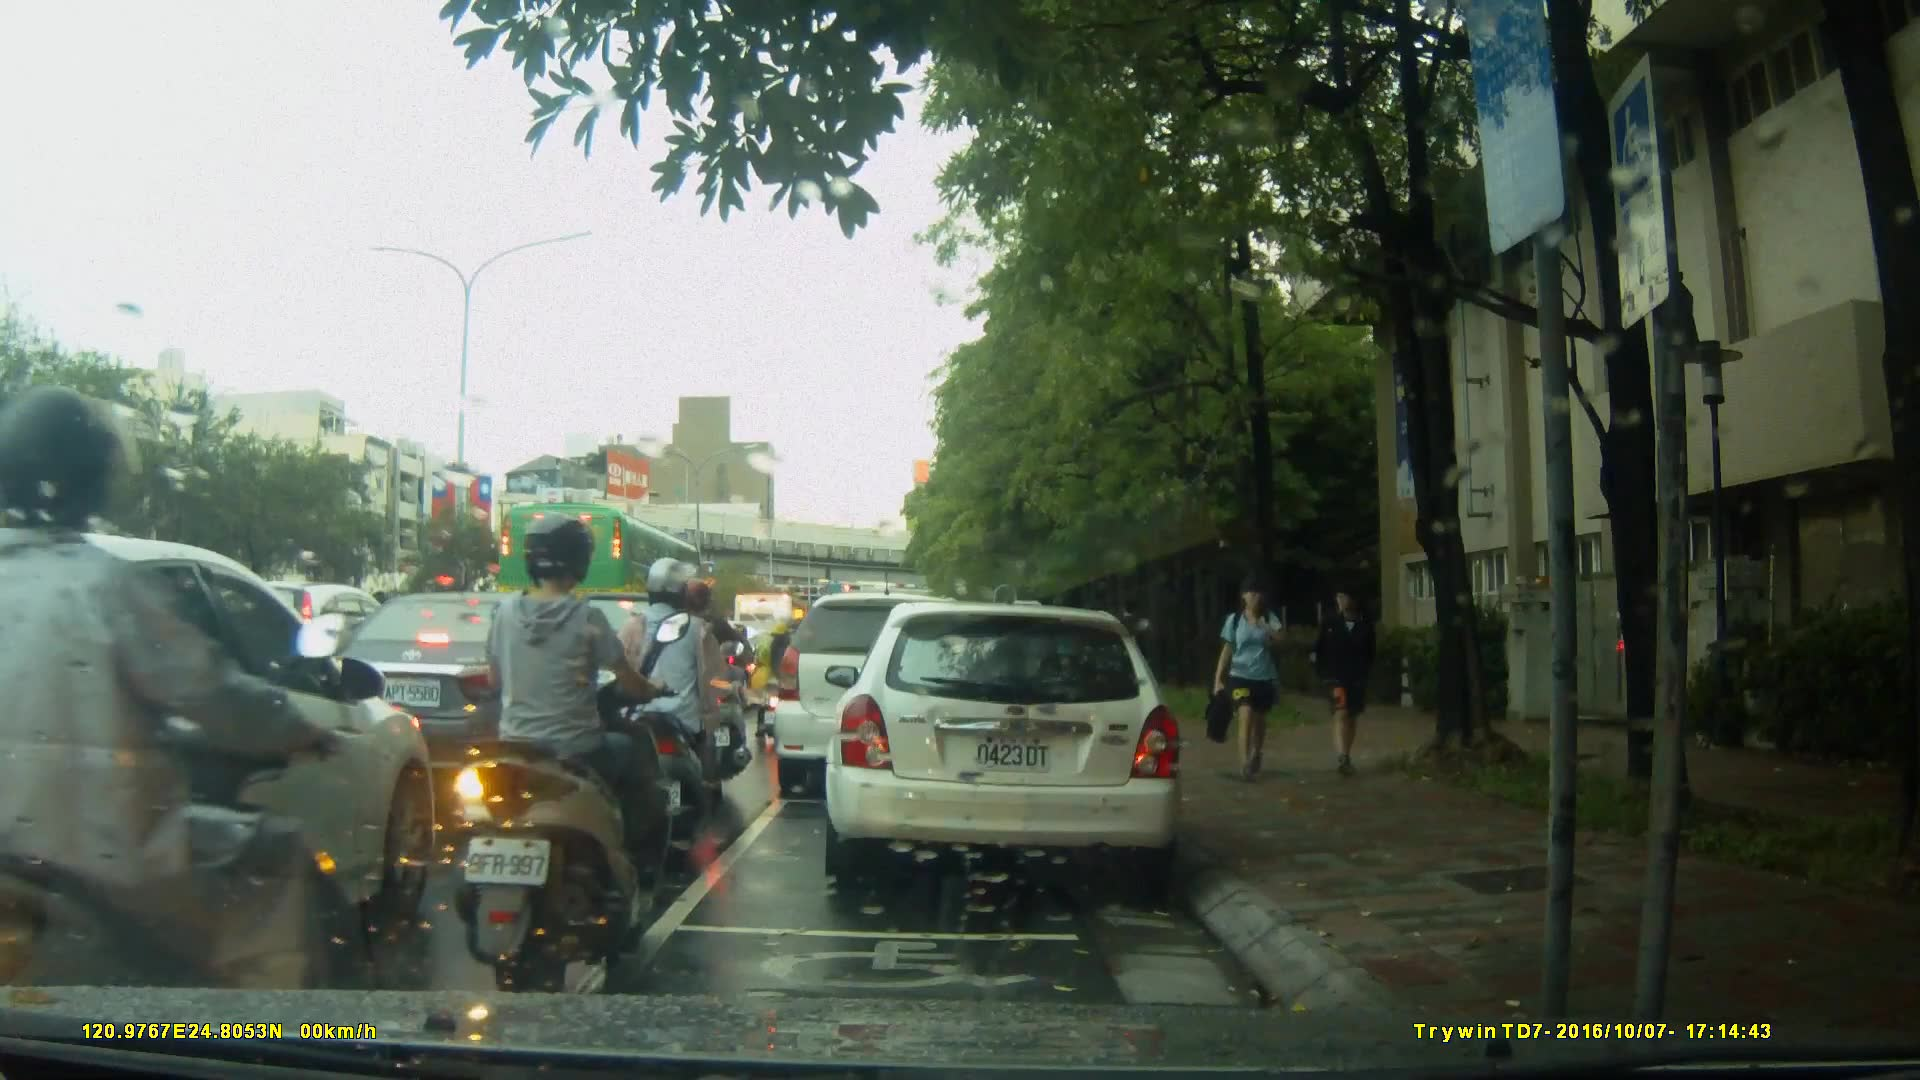pedestrian: (1200, 573, 1310, 785), (1311, 570, 1390, 779), (1121, 596, 1152, 688)
rider: (1, 385, 386, 1080), (462, 510, 665, 972), (618, 555, 720, 845), (676, 580, 757, 783), (758, 617, 810, 744)
vehicle: (1, 528, 448, 988), (831, 592, 1196, 897), (313, 590, 632, 803), (770, 591, 999, 803), (495, 500, 707, 636)
